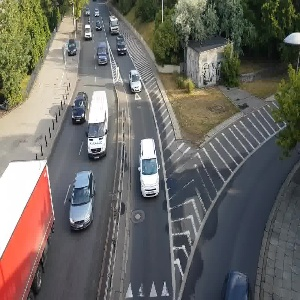car: (70, 168, 96, 236)
van: (82, 89, 111, 162)
